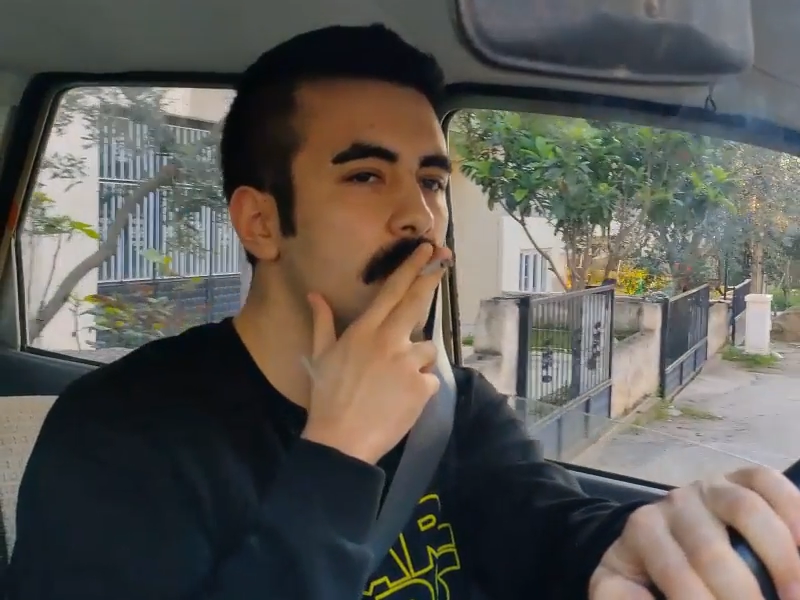sigara: (413, 253, 462, 280)
